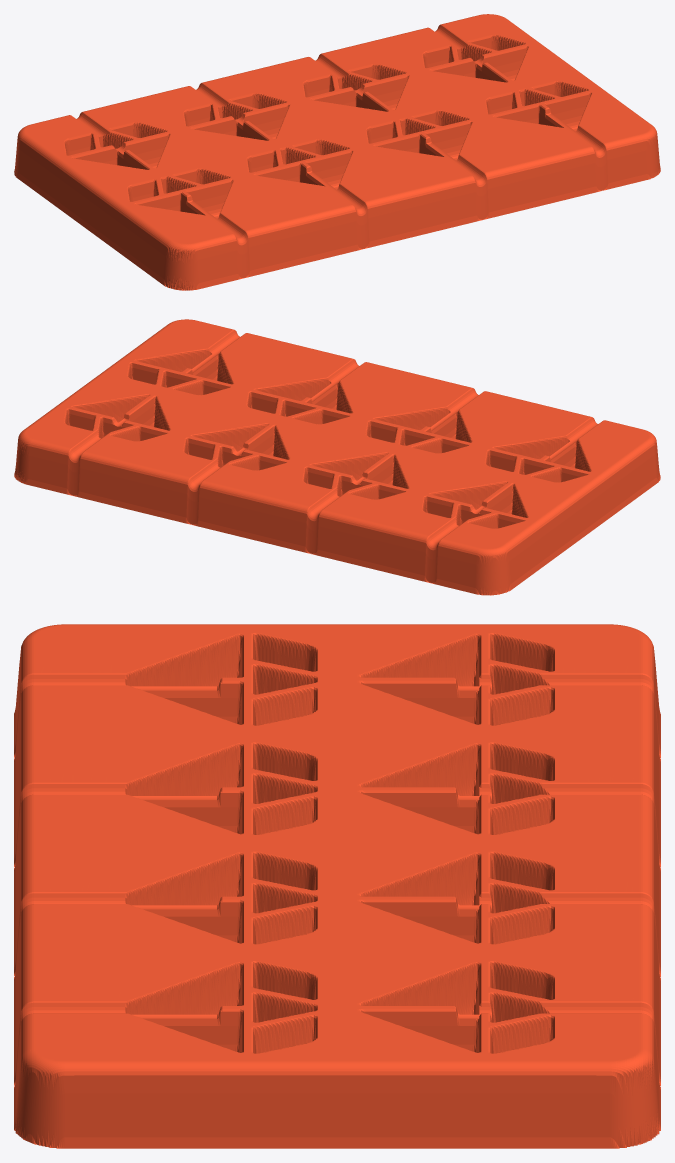
The model's file is mold.glb.
3 renders of one model, top to bottom at view 1: azimuth 30°, elevation 25°; view 2: azimuth 150°, elevation 25°; view 3: azimuth 270°, elevation 25°, orthographic. The views are drawn at different scales.
Parts seen in each view (by area): view 1: geometry_0; view 2: geometry_0; view 3: geometry_0.
Part boxes in pixels (x1,y1,x2,y2): geometry_0: (14, 14, 660, 290); geometry_0: (14, 319, 660, 595); geometry_0: (14, 624, 660, 1148).
Bounding box in the file's own units: 0.1907 × 0.0155 × 0.1152.
